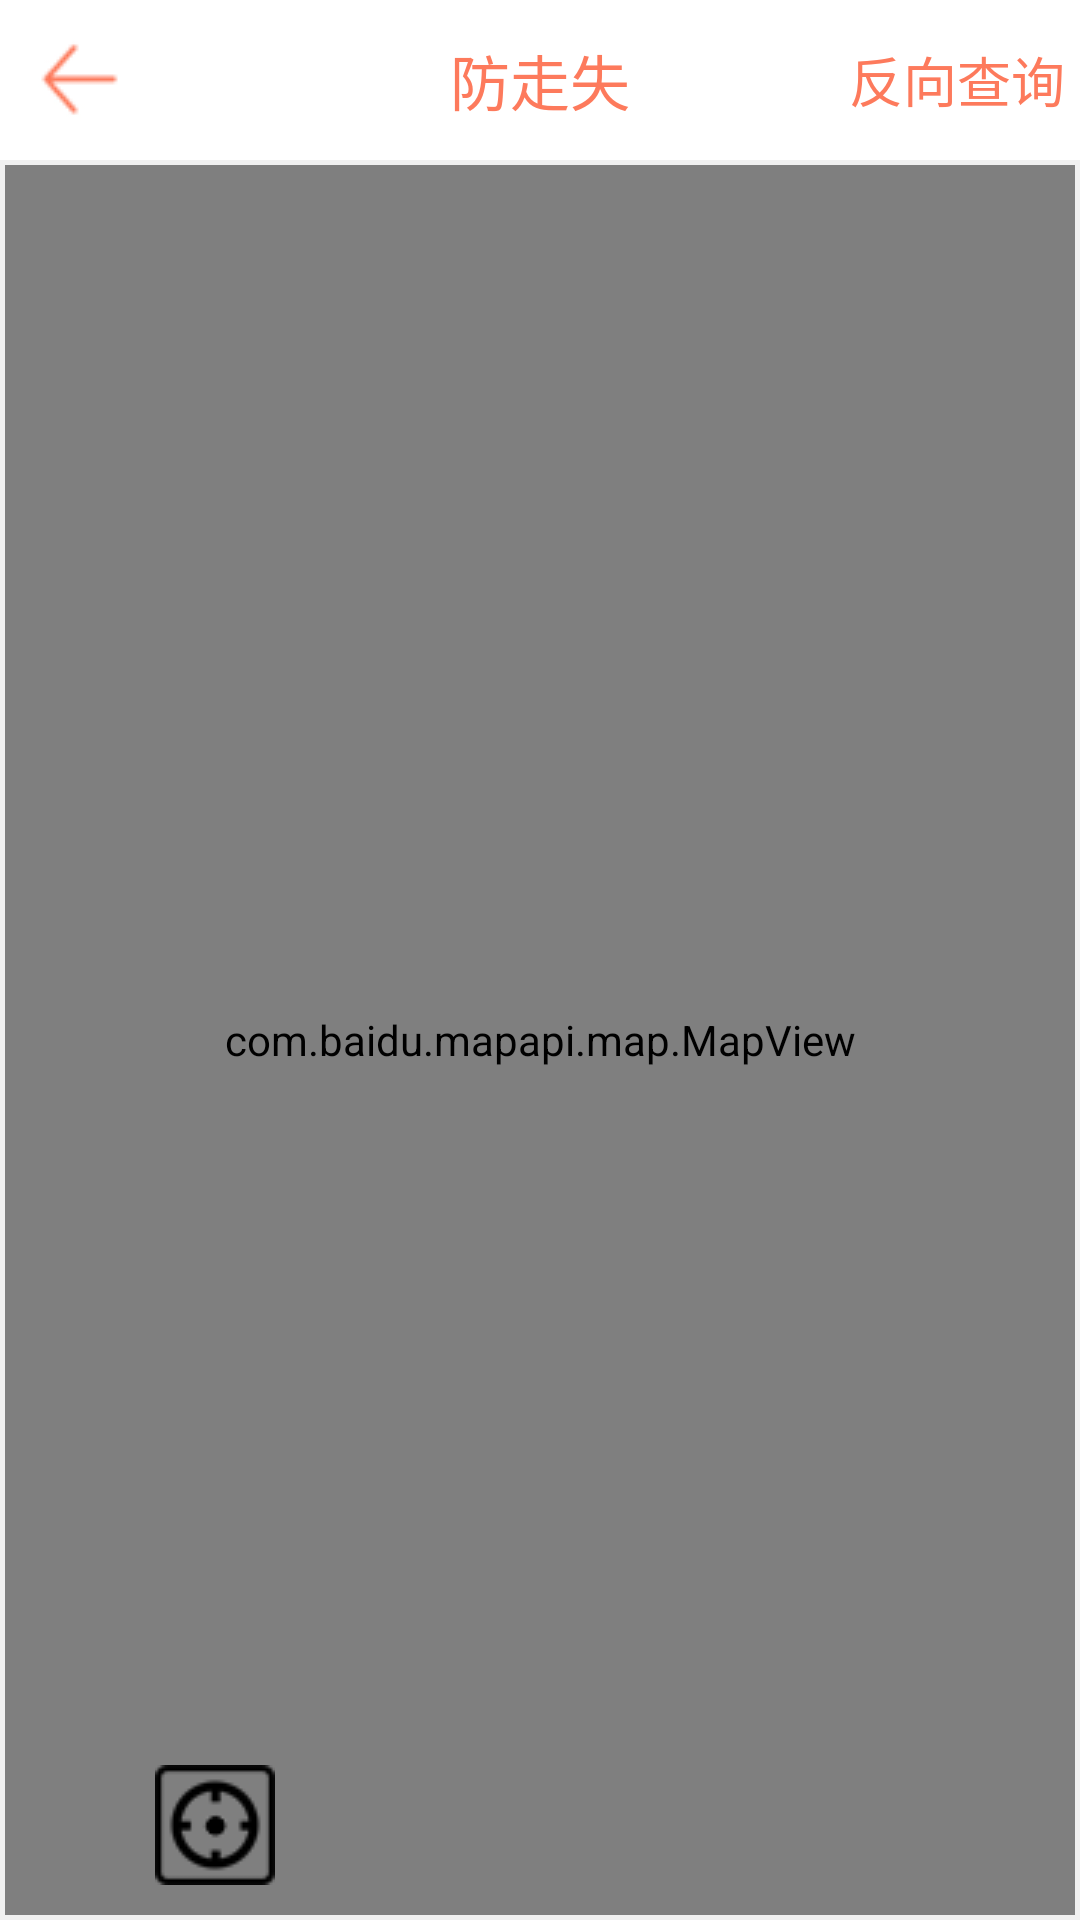

Icons on this 1080px x 1920px Android screen, each with its box as region(x1, y1, x2, y2):
mylocation: region(155, 1765, 275, 1885)
zuo: region(42, 44, 118, 115)
